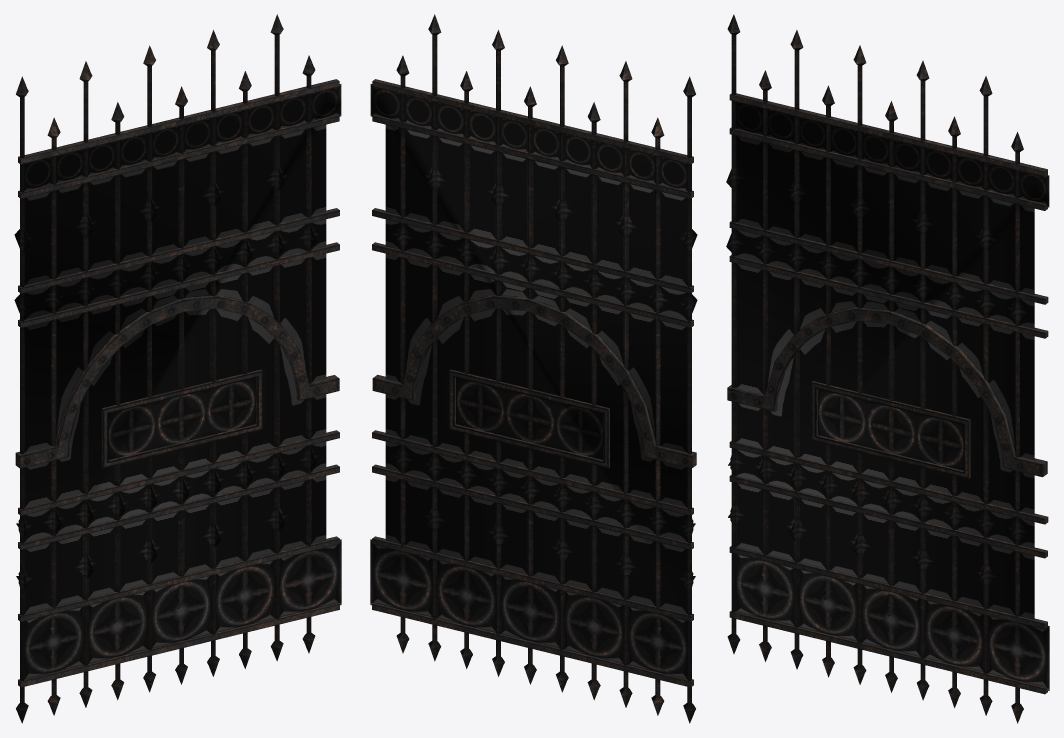
Rendered from Iron Fence Small.FBX.
3 renders of one model, left to right at view 1: azimuth 30°, elevation 25°; view 2: azimuth 150°, elevation 25°; view 3: azimuth 330°, elevation 25°, orthographic.
Visible parts, largest first — view 1: Iron Fence Small; view 2: Iron Fence Small; view 3: Iron Fence Small.
Part boxes in pixels (x1,y1,x2,y2): Iron Fence Small: (14,14,341,723); Iron Fence Small: (370,14,697,723); Iron Fence Small: (726,14,1049,723).
Bounding box in the file's own units: 20.45 × 38.85 × 1.71.
2 materials, 2 textured.
